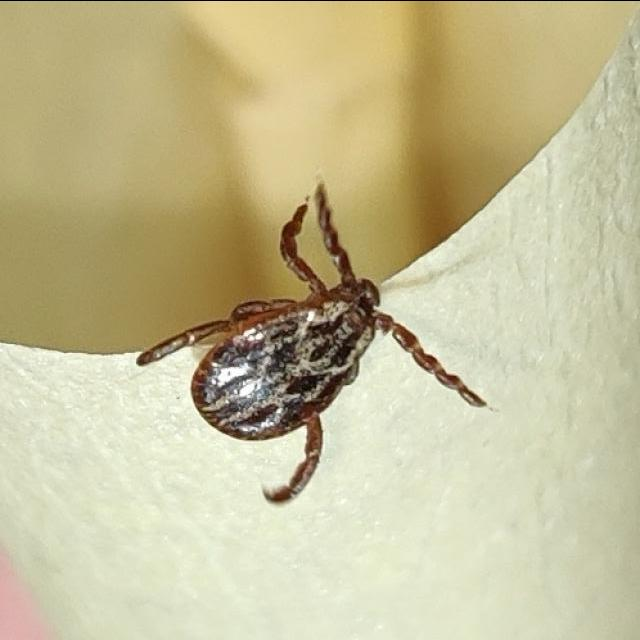Dermacentor Reticulatus-M: (139, 177, 488, 506)
